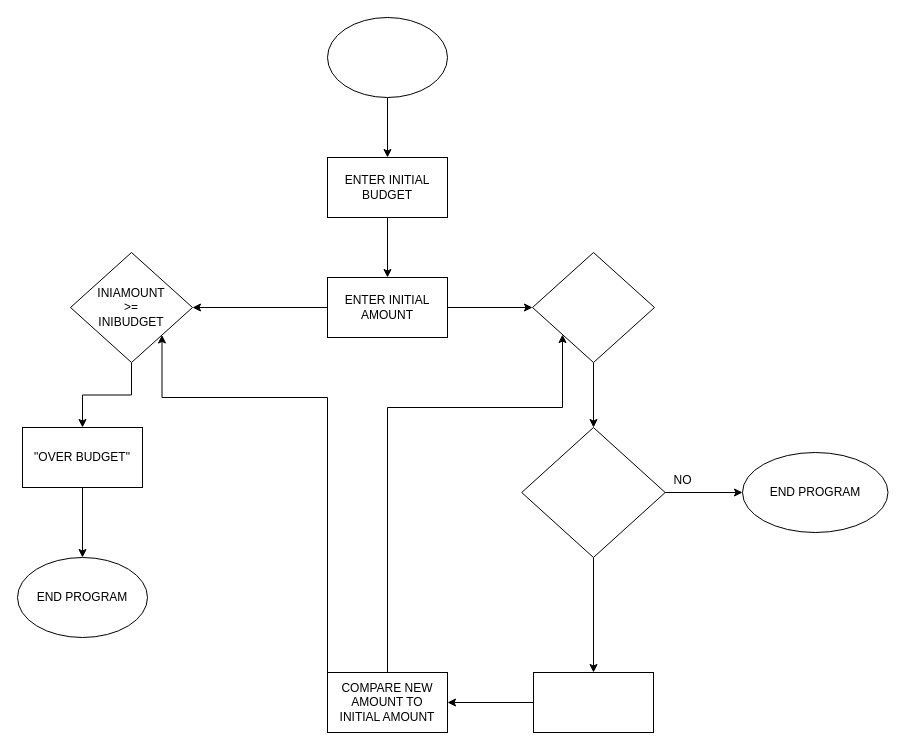
Some shapes in this 906 by 750 pixel diagram are drawn without their labels. The box of each missing label's shape, as (x1, y1, x2, y2) in pixels:
ADD AMOUNT?: (521, 426, 665, 558)
INIAMOUNT + ADDEDAMOUNT: (532, 672, 654, 732)
INIAMOUNT < INIBUDGET: (532, 252, 654, 362)
START: (326, 16, 448, 98)
